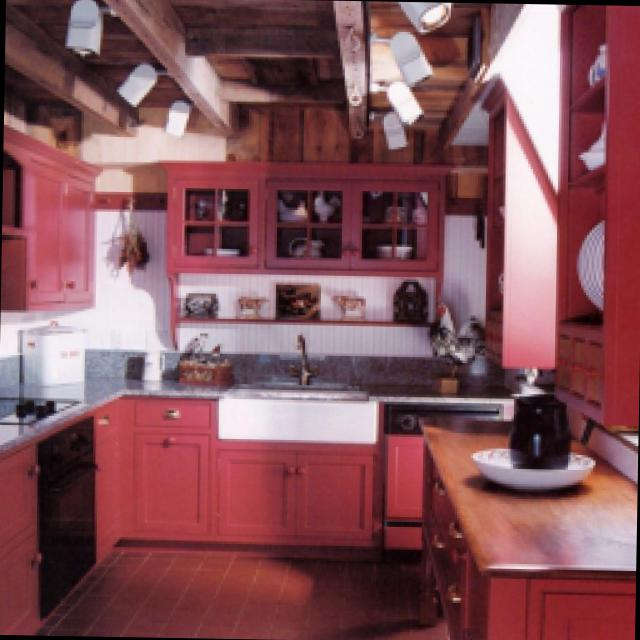basket crop: (179, 330, 237, 386), (395, 276, 433, 317)
bowl -X: (470, 443, 600, 489)
cabinets: (101, 394, 380, 566), (430, 447, 636, 640), (160, 160, 455, 265), (5, 122, 113, 310), (0, 442, 45, 632)
ceiling lamps: (390, 26, 437, 84), (70, 0, 107, 54), (119, 62, 162, 107), (387, 76, 429, 121), (402, 1, 455, 27), (166, 93, 196, 135), (384, 111, 413, 146)
counter bottom: (428, 423, 637, 566), (1, 370, 224, 408), (344, 375, 499, 396)
dishwasher: (384, 396, 506, 549)
floor -X: (57, 547, 445, 635)
mug: (142, 349, 172, 377), (238, 291, 270, 311)
oven cloth: (40, 411, 103, 618)
picture occluded: (276, 277, 326, 315)
pitcher: (510, 391, 573, 464), (335, 288, 373, 313)
plant -x: (121, 192, 156, 269)
plate food: (576, 215, 605, 310)
pot hanger: (24, 318, 92, 383)
shelves crop: (559, 5, 640, 426), (479, 76, 562, 363)
sink basin: (223, 383, 378, 436)
sink occluded: (289, 327, 324, 385)
statue: (432, 300, 485, 387)
stove burner: (1, 394, 81, 420)
vase -X: (185, 290, 223, 313)
